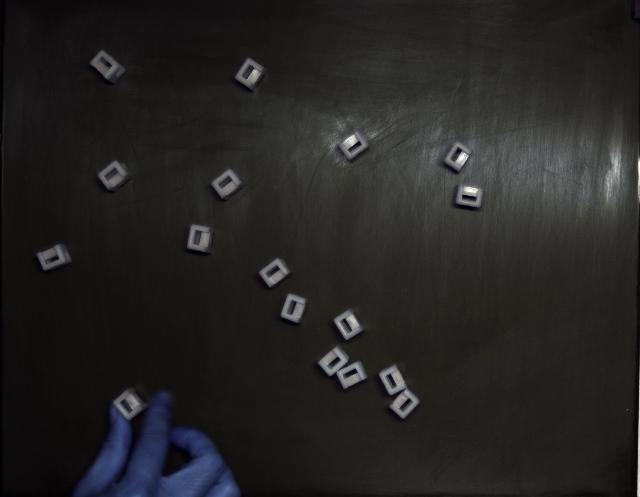fourth_side: (90, 50, 125, 84), (114, 389, 148, 421), (211, 169, 245, 200), (98, 160, 132, 191), (235, 59, 266, 91), (36, 244, 71, 271), (318, 346, 349, 376), (259, 259, 291, 288), (336, 361, 368, 390), (334, 310, 364, 340), (390, 389, 420, 419), (339, 131, 369, 160), (444, 141, 472, 172), (379, 364, 406, 396), (280, 294, 308, 324), (188, 225, 214, 254), (456, 185, 484, 209)
